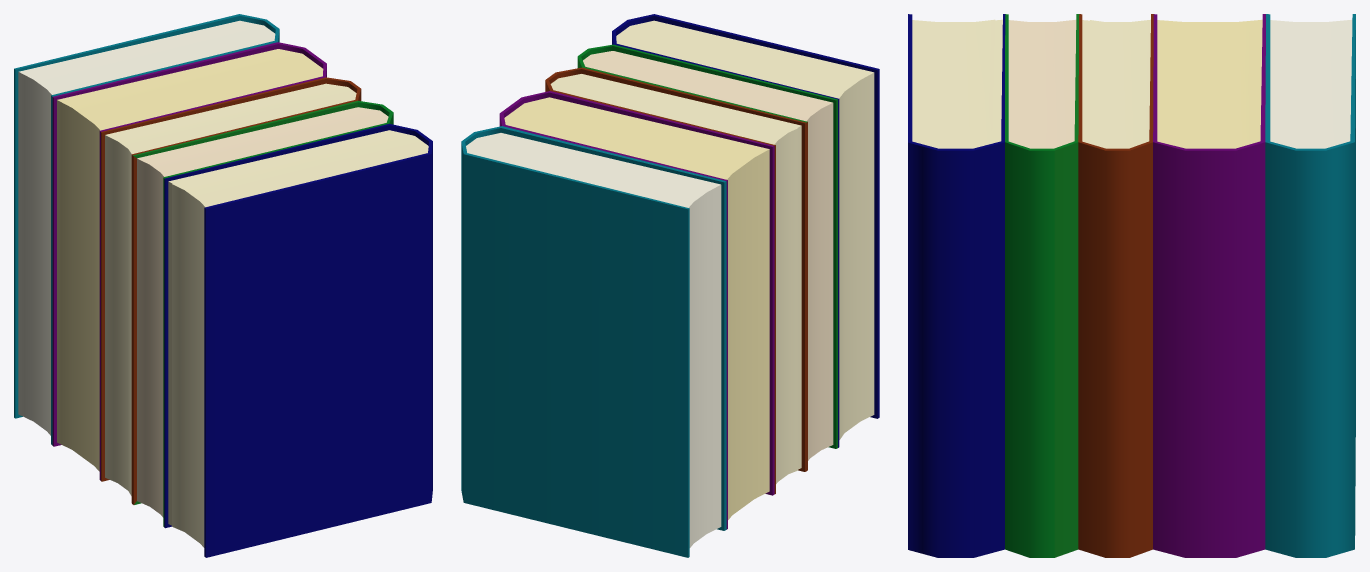
The model's file is Books_01.fbx.
The picture shows the model from 3 angles, left to right: view 1: azimuth 30°, elevation 25°; view 2: azimuth 150°, elevation 25°; view 3: azimuth 270°, elevation 25°; orthographic projection. The views are drawn at different scales.
Visible parts, largest first — view 1: Books01_LOD00; view 2: Books01_LOD00; view 3: Books01_LOD00.
Boxes of the visible parts, box(x1,y1,x2,y2) form: Books01_LOD00: box(14, 14, 432, 557); Books01_LOD00: box(461, 14, 879, 557); Books01_LOD00: box(908, 14, 1355, 557).
Size of what is drawn, in the model's own units: 17.93 by 24.92 by 24.83.
